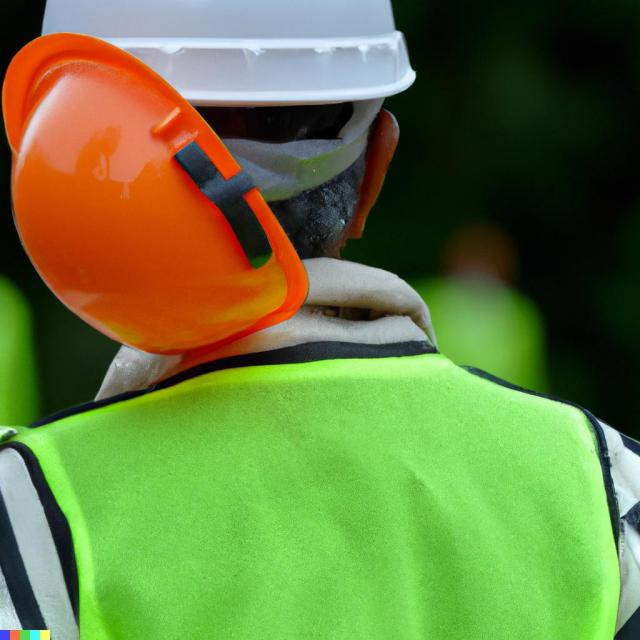Reflective-Jacket: (12, 284, 640, 637)
Safety-Helmet: (48, 0, 416, 96)
